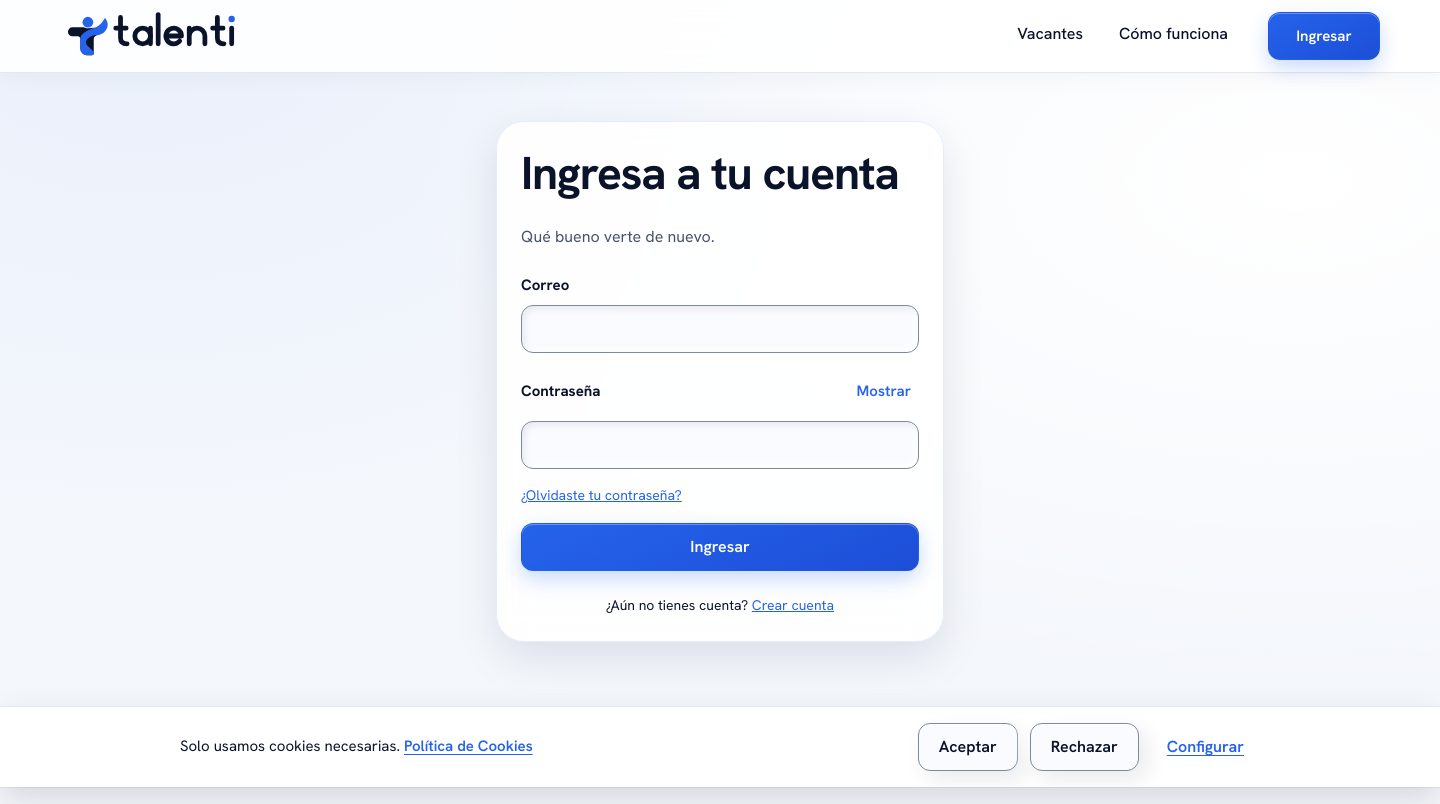
Test: Sign-in result (001-08, 001-09, 001-10, 001-11) › 001-08 and 005-05: with the right data a student opens the Home, with no e-mail on screen
Expected: the heading "Ingresa a tu cuenta" is shown, 521,146 -> 919,201
Type "ana.prueba@example.test" into the field labelled "Correo" at (720, 329), box 521,305 -> 919,353
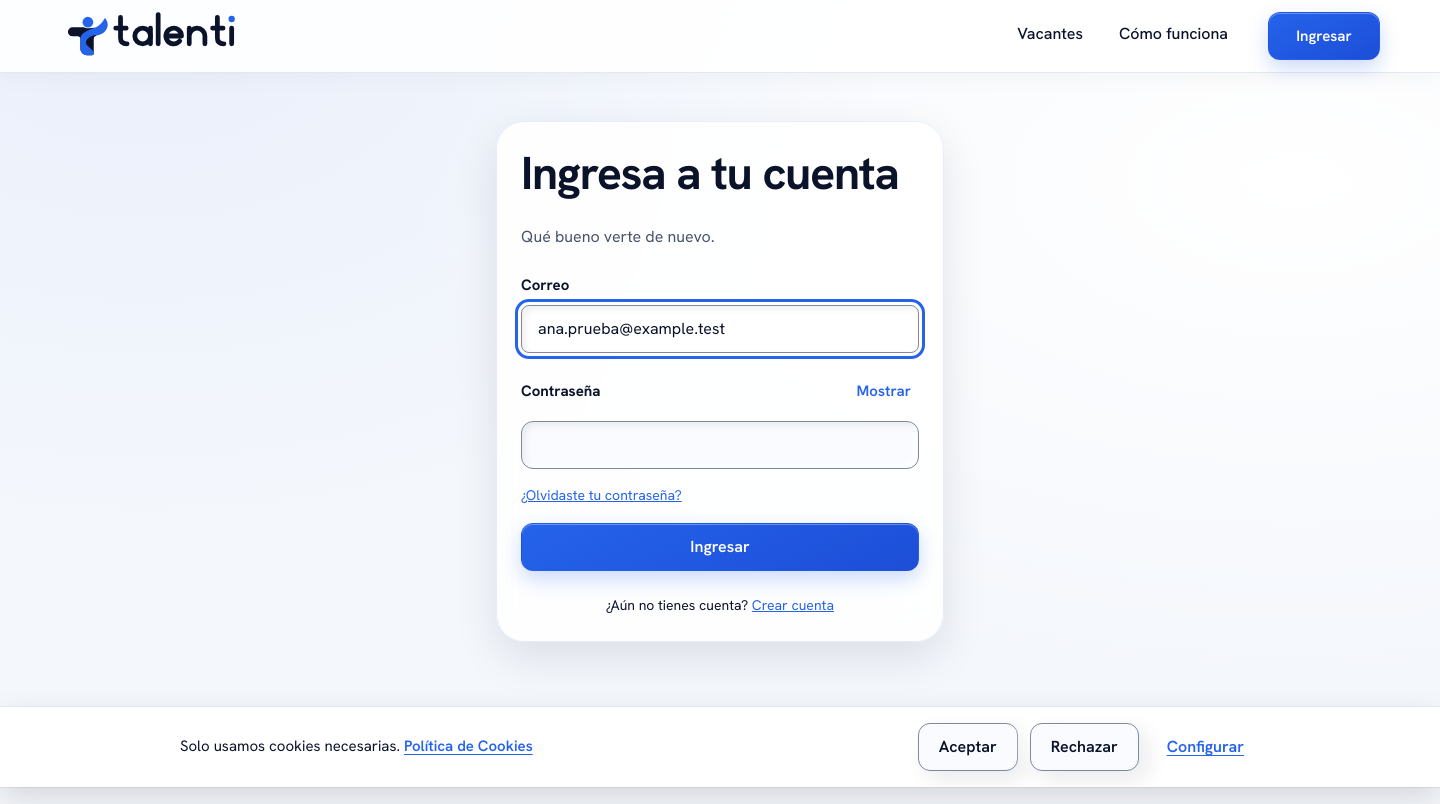
Type "Clave12345" into the password field labelled "Contraseña" at (720, 445), box 521,421 -> 919,469
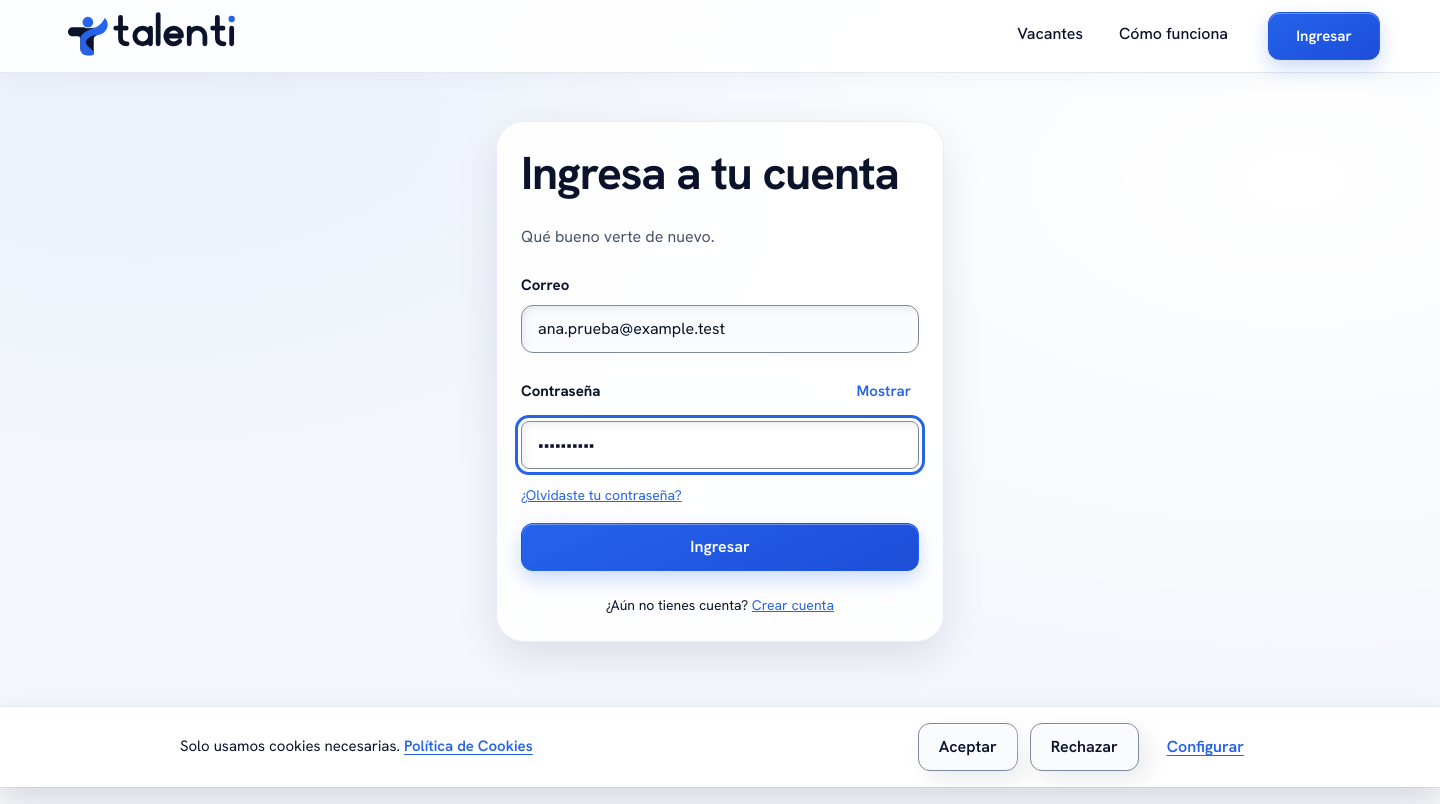
Click the button "Ingresar" at (720, 547), box 521,523 -> 919,571
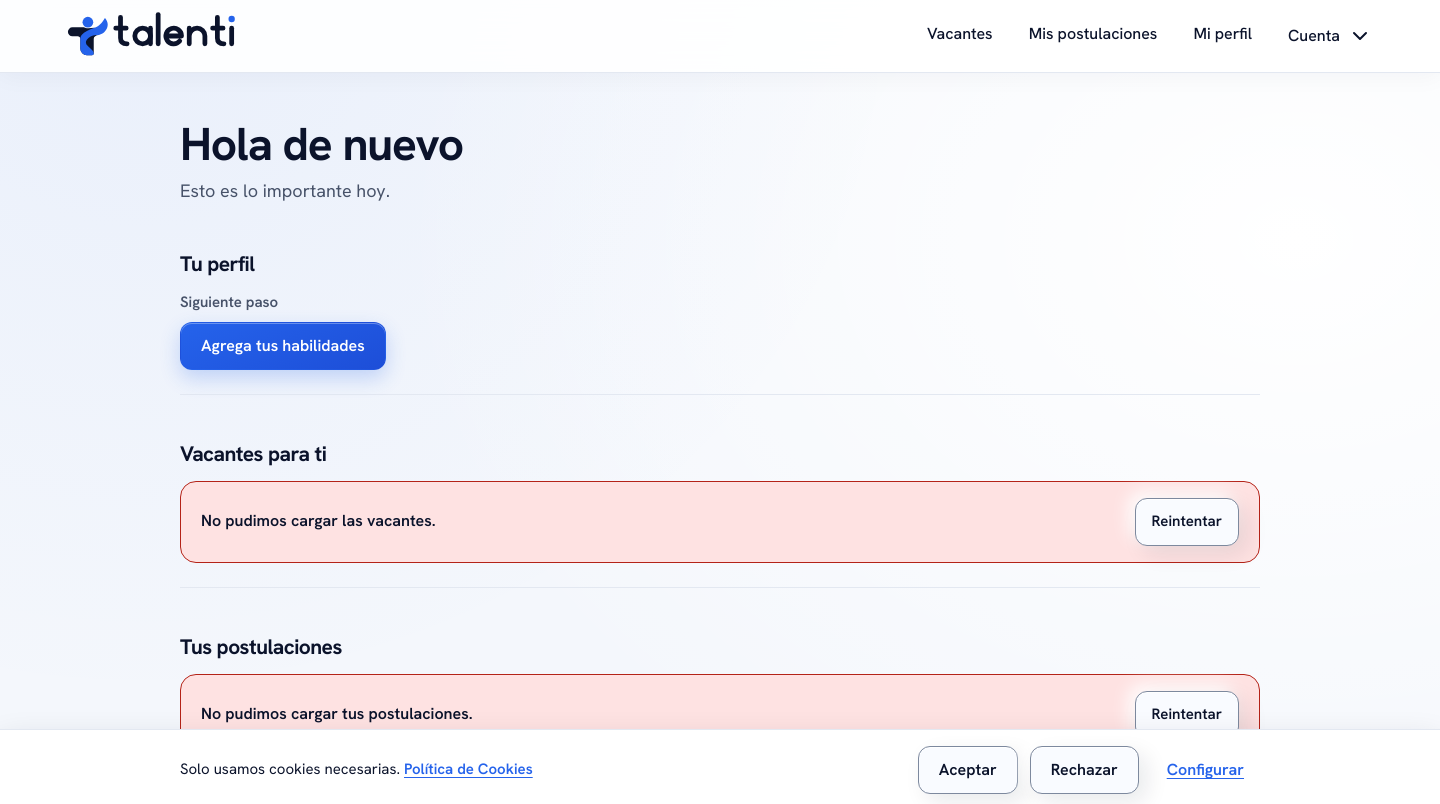
Expected: the text "ana.prueba@example.test" is not shown
Now the heading "Hola de nuevo" is shown, box 180,114 -> 463,174
